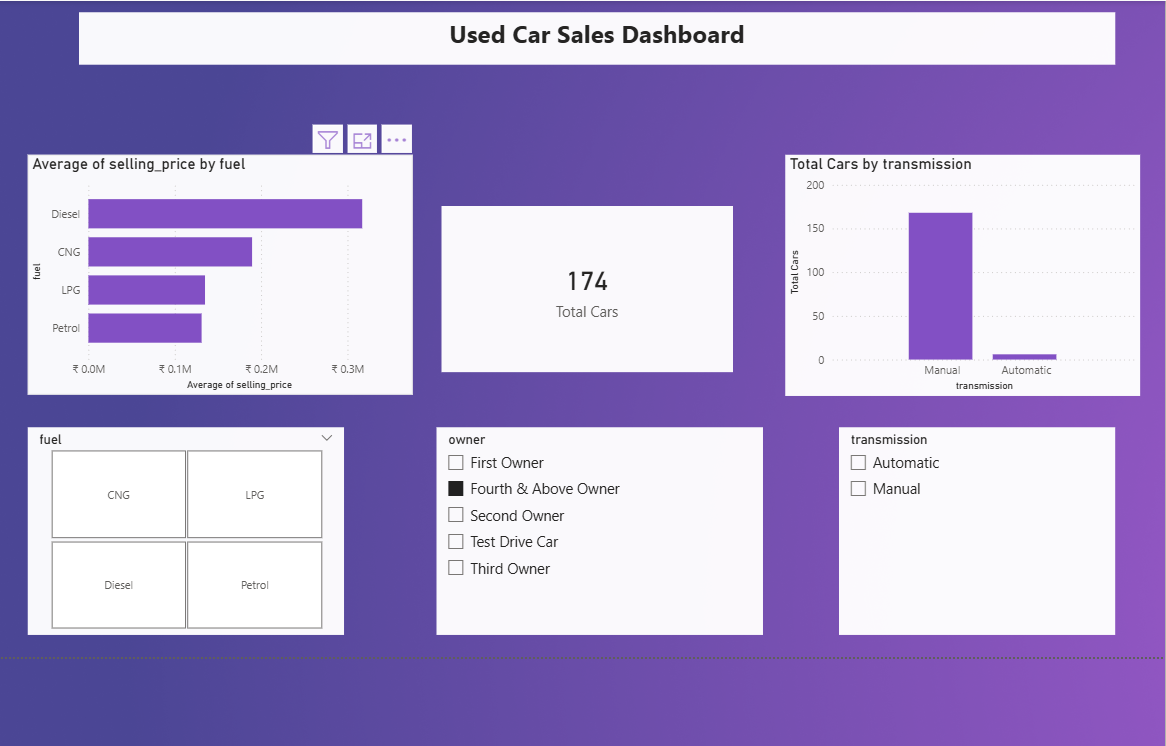

This screenshot's page, from the dashboard's own definition file:
{"tool":"powerbi","page":{"name":"Page 1","canvas":[1280,720],"ordinal":0},"visuals":[{"type":"card","fields":{"Values":["Car details v3.Total Cars"]},"box":[485.8,225,319.7,182.5],"z":0},{"type":"textbox","box":[87.8,12.3,1137.6,57.6],"z":1000},{"type":"barChart","fields":{"Category":["Car details v3.fuel"],"Y":["Avg(Car details v3.selling_price)"]},"box":[31.6,168.8,422.6,263.5],"z":2000},{"type":"columnChart","fields":{"Category":["Car details v3.transmission"],"Y":["Car details v3.Total Cars"]},"box":[863.1,168.8,389.7,264.8],"z":3000},{"type":"slicer","fields":{"Values":["Car details v3.fuel"]},"box":[31.6,467.9,347.2,227.8],"z":4000},{"type":"slicer","fields":{"Values":["Car details v3.transmission"]},"box":[922.1,467.9,303.3,227.8],"z":5000},{"type":"slicer","fields":{"Values":["Car details v3.owner"]},"box":[480.3,467.9,358.1,227.8],"z":6000}]}

Visuals, with their boxes in screenshot pixels (x1, y1, x2, y2):
card - Car details v3.Total Cars: 439,202,727,366
textbox: 82,11,1104,63
barChart - Car details v3.fuel x Avg(Car details v3.selling_price): 31,152,411,388
columnChart - Car details v3.transmission x Car details v3.Total Cars: 778,152,1128,390
slicer - Car details v3.fuel: 31,420,343,625
slicer - Car details v3.transmission: 831,420,1104,625
slicer - Car details v3.owner: 435,420,756,625
